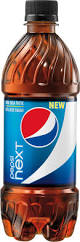bottle: (2, 2, 79, 240)
pepsi: (21, 107, 58, 148)
plastic: (2, 1, 78, 242)
